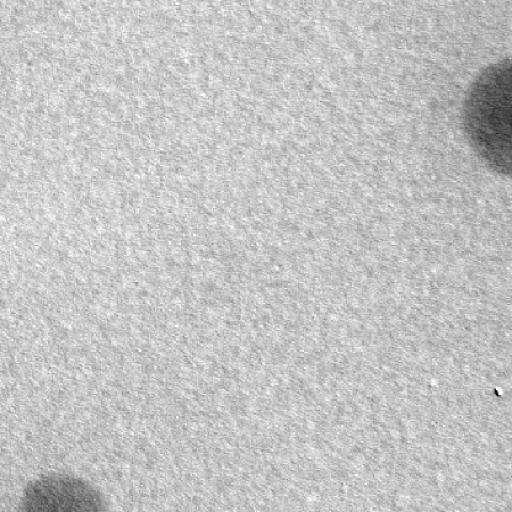Nanoparticles: (464, 54, 512, 182), (16, 473, 106, 512)
